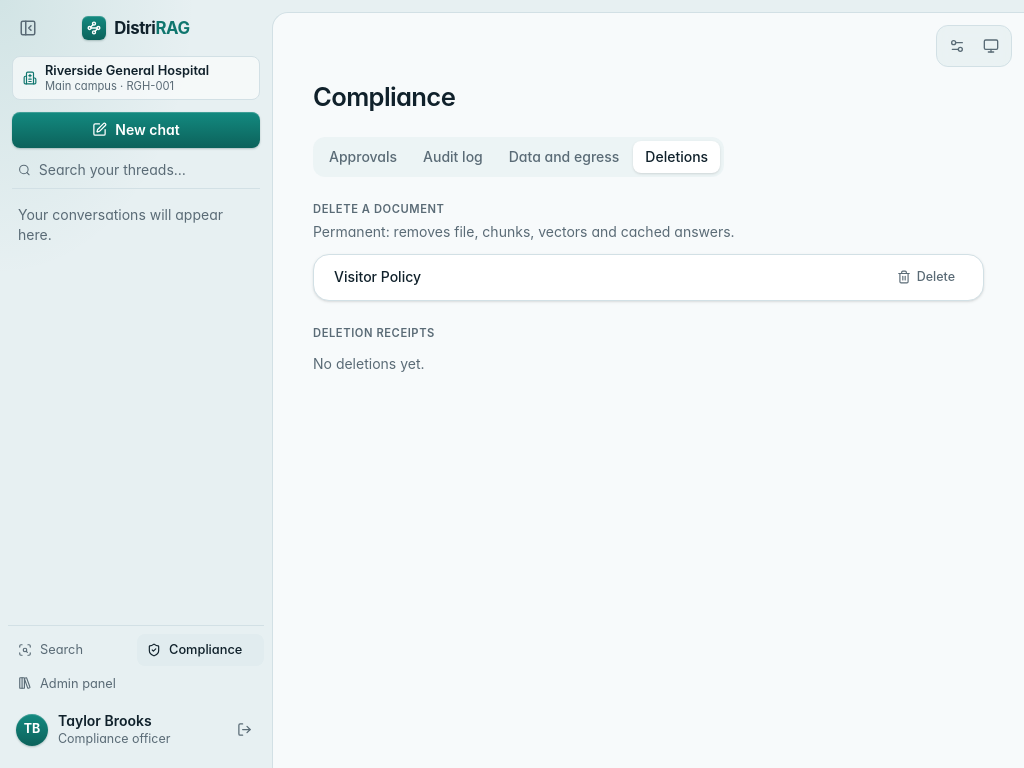
deleting a document needs its title typed
Later steps or results of the test are not shown.
Click the button with aria-label "Delete Visitor Policy" at (926,277), box [889,265,963,290]
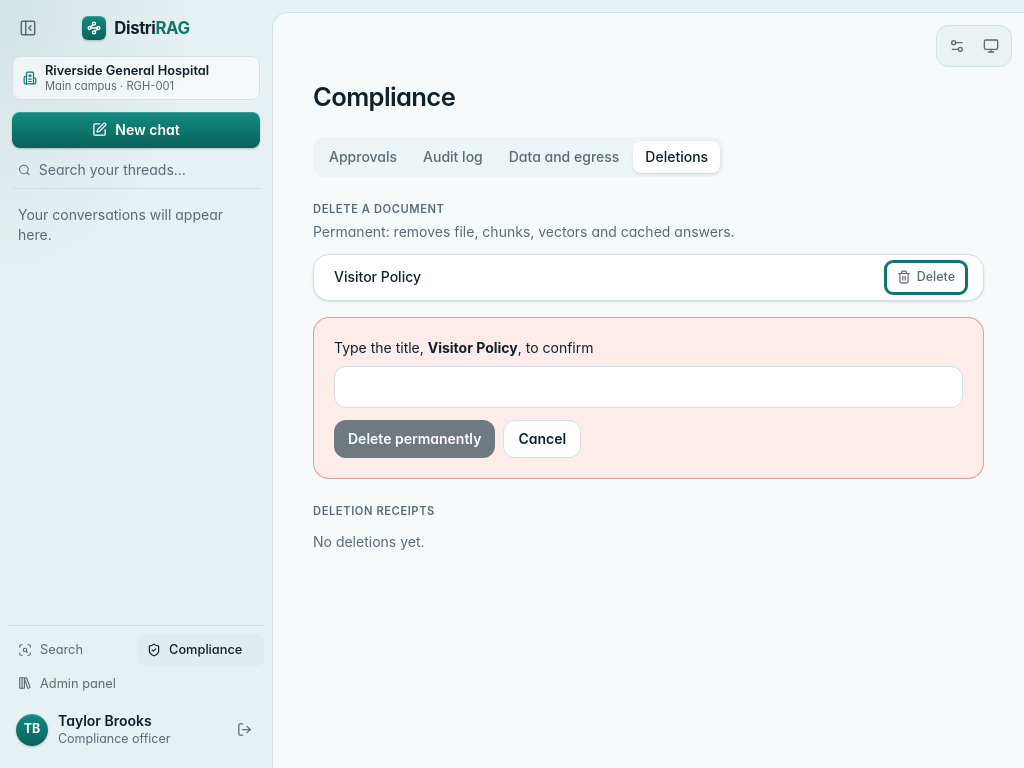
Result: the button "Delete permanently" is disabled at [334,420,495,458]
